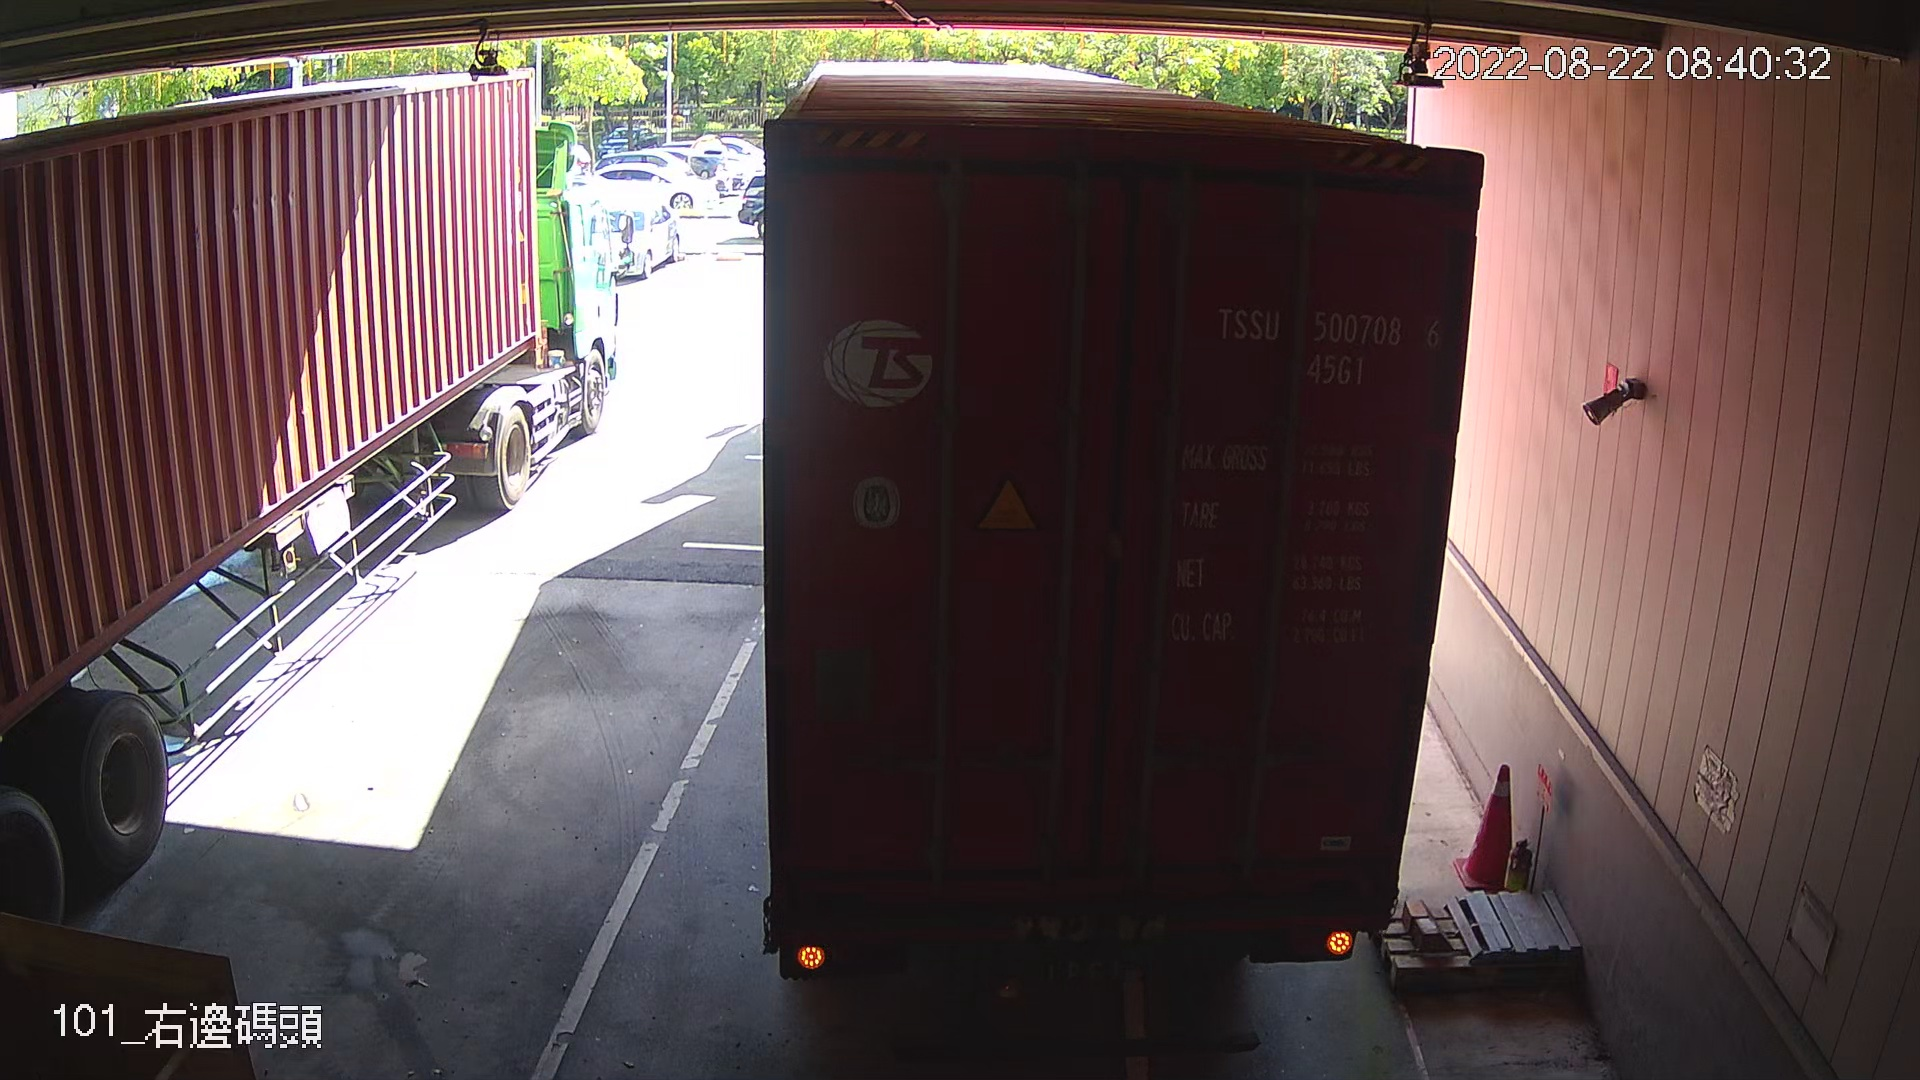container: (1204, 294, 1451, 394)
